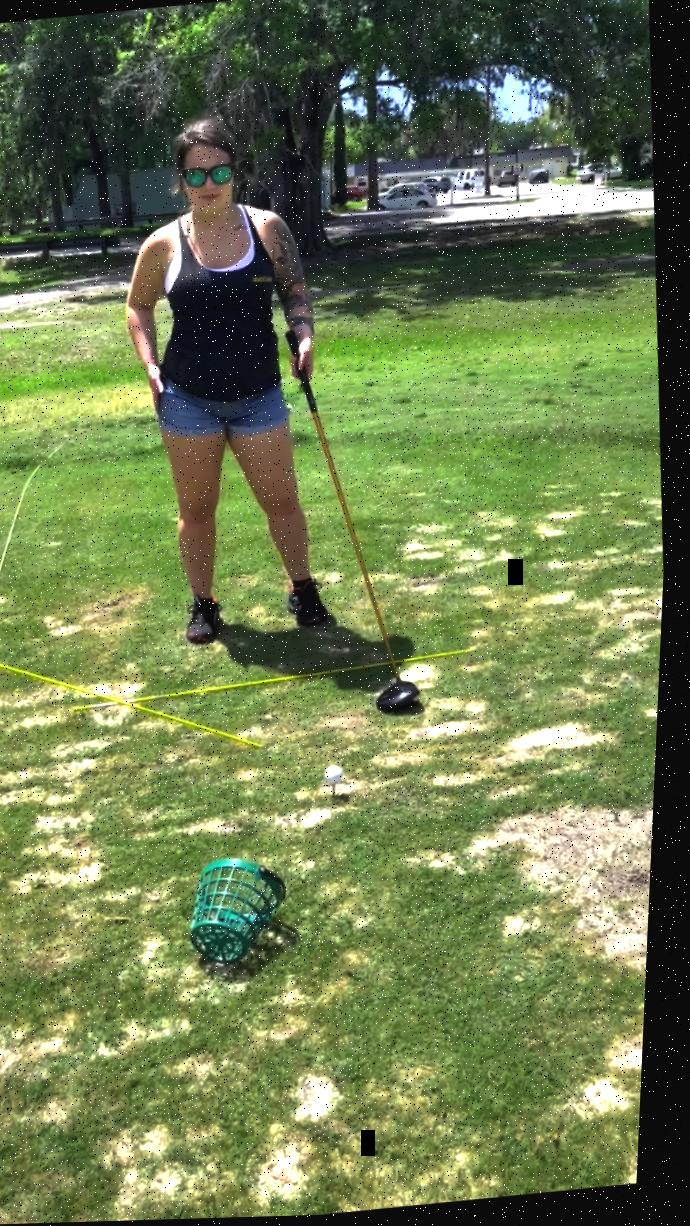ClubHead: (376, 662, 434, 730)
GolfBall: (326, 757, 355, 798)
